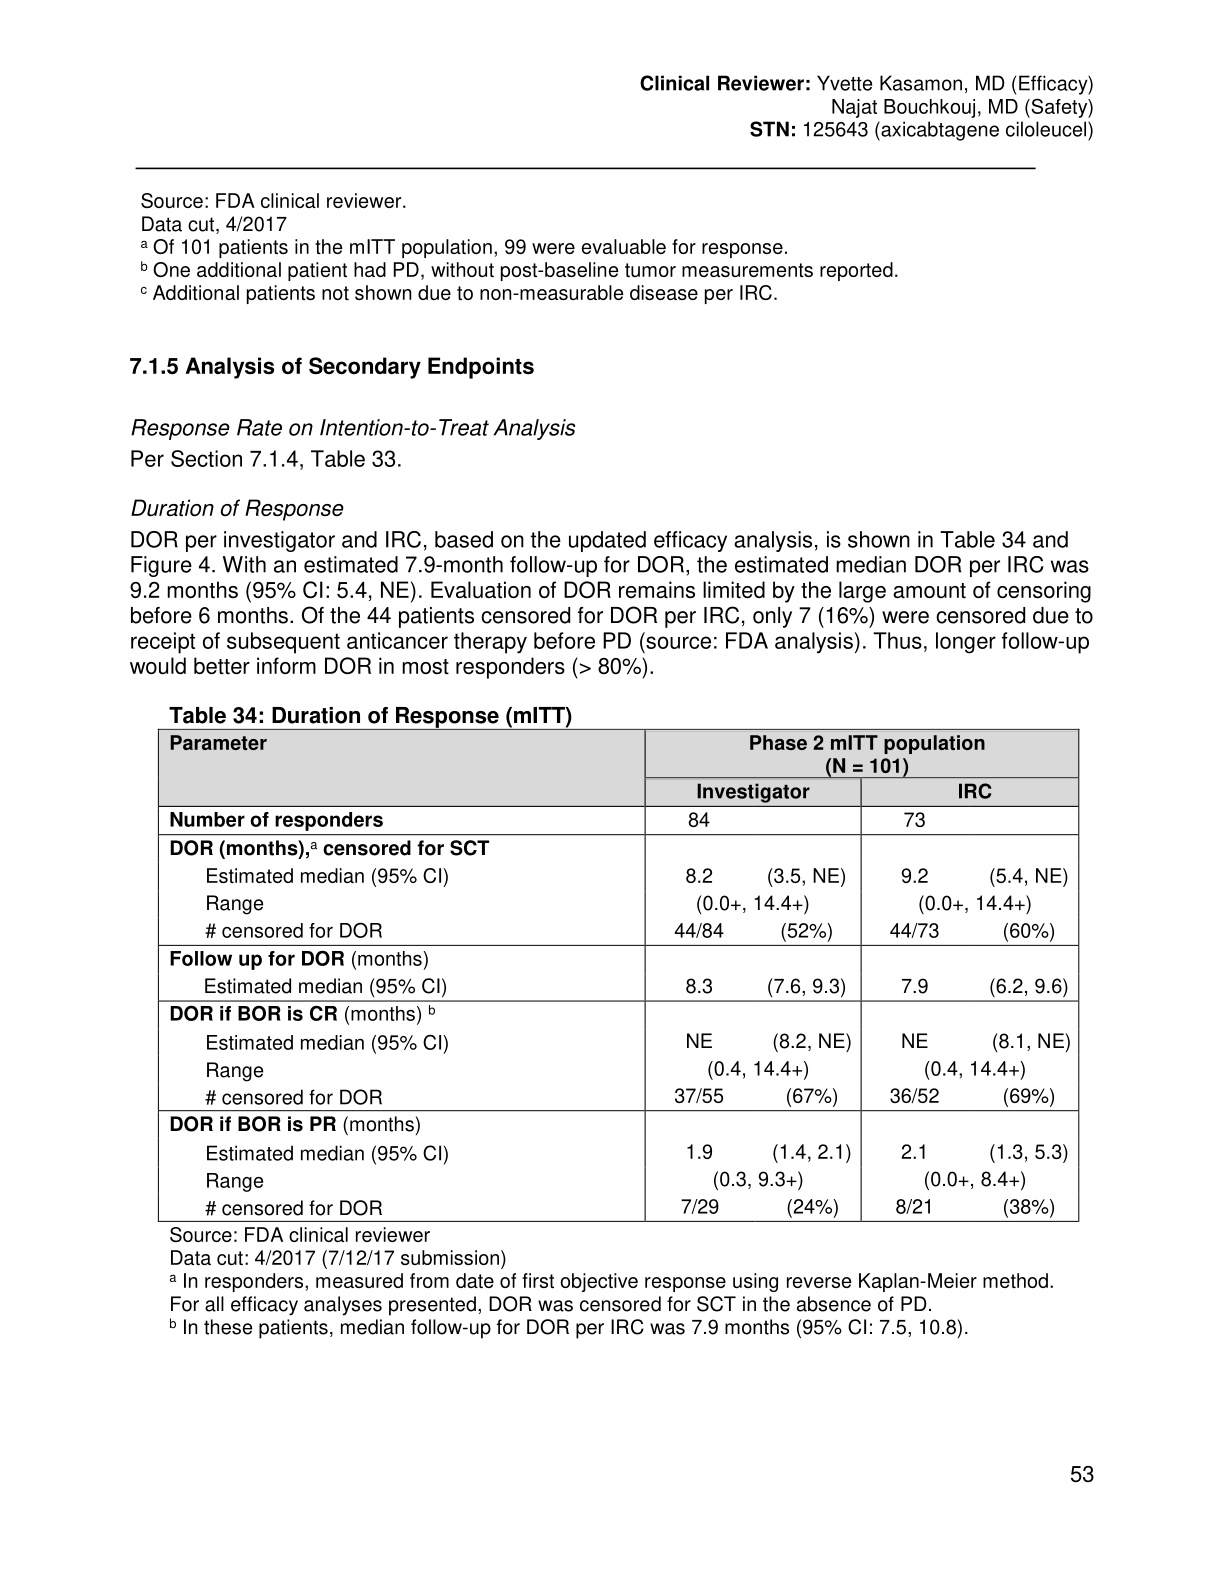merged_cells: (156, 726, 1080, 1223)
